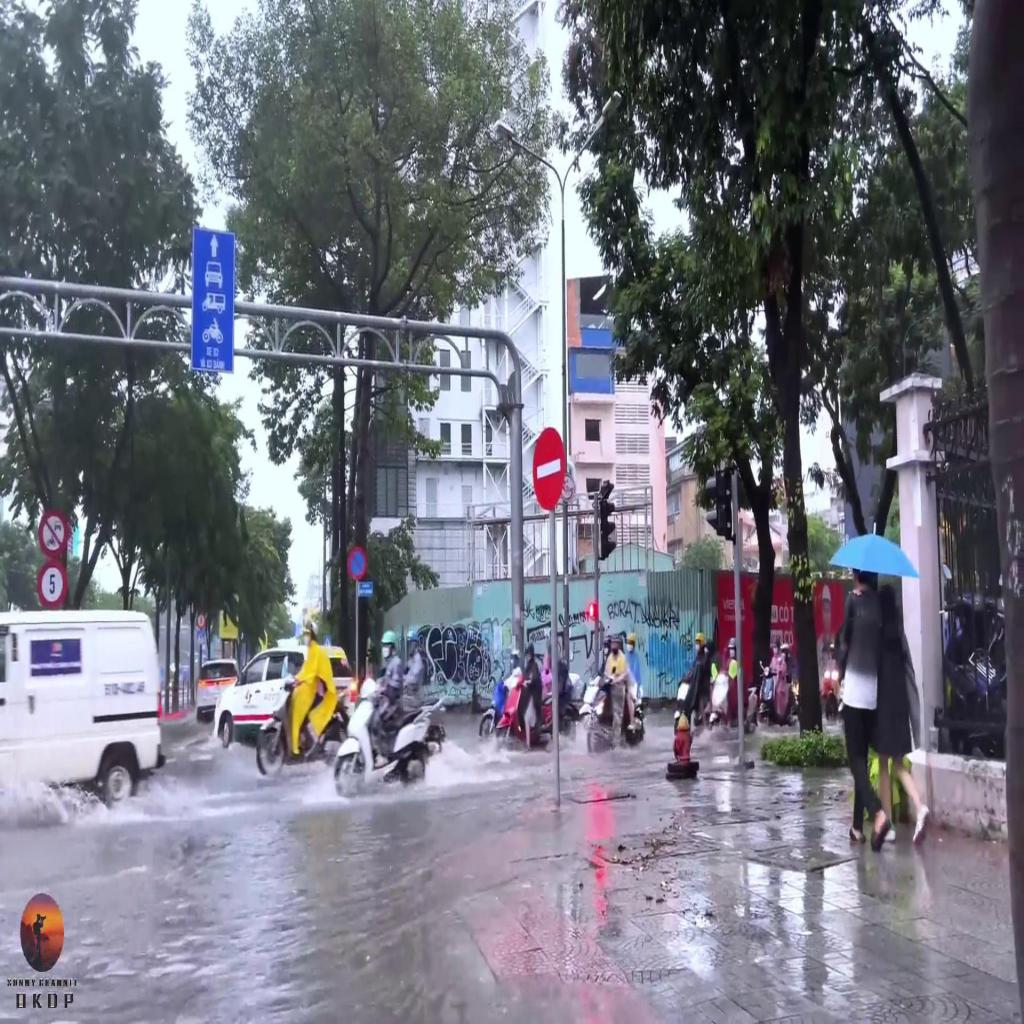cam_do_xe: (347, 546, 367, 581)
cam_xe_di_nguoc_chieu: (533, 427, 565, 508)
khac: (192, 228, 235, 374), (37, 560, 69, 607), (38, 511, 70, 558)
